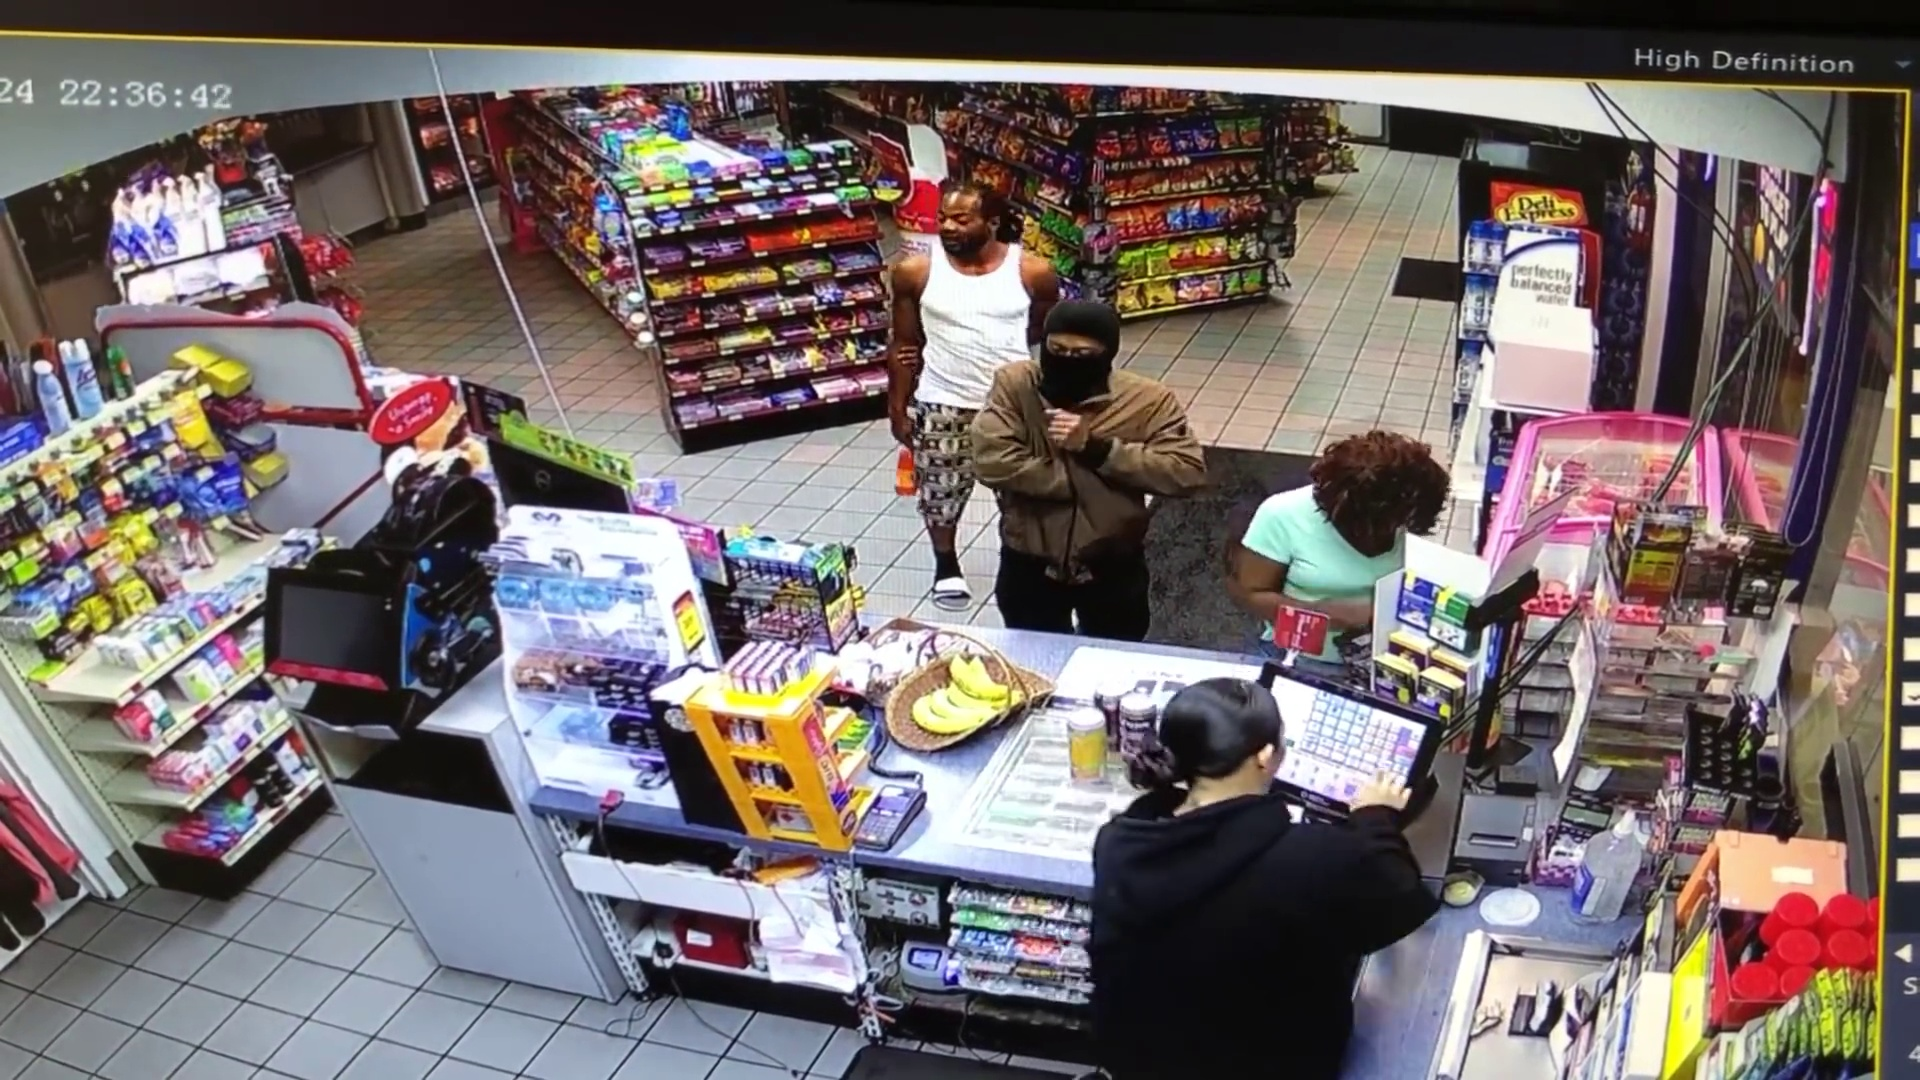face: (1039, 314, 1110, 398), (932, 195, 991, 257)
